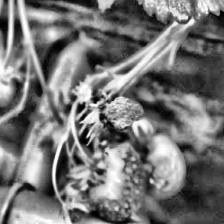Gray Mold: (78, 95, 146, 146)
